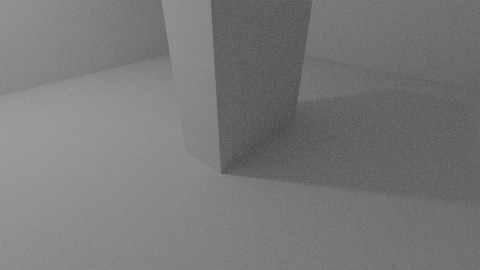cheminee: (161, 1, 312, 174)
